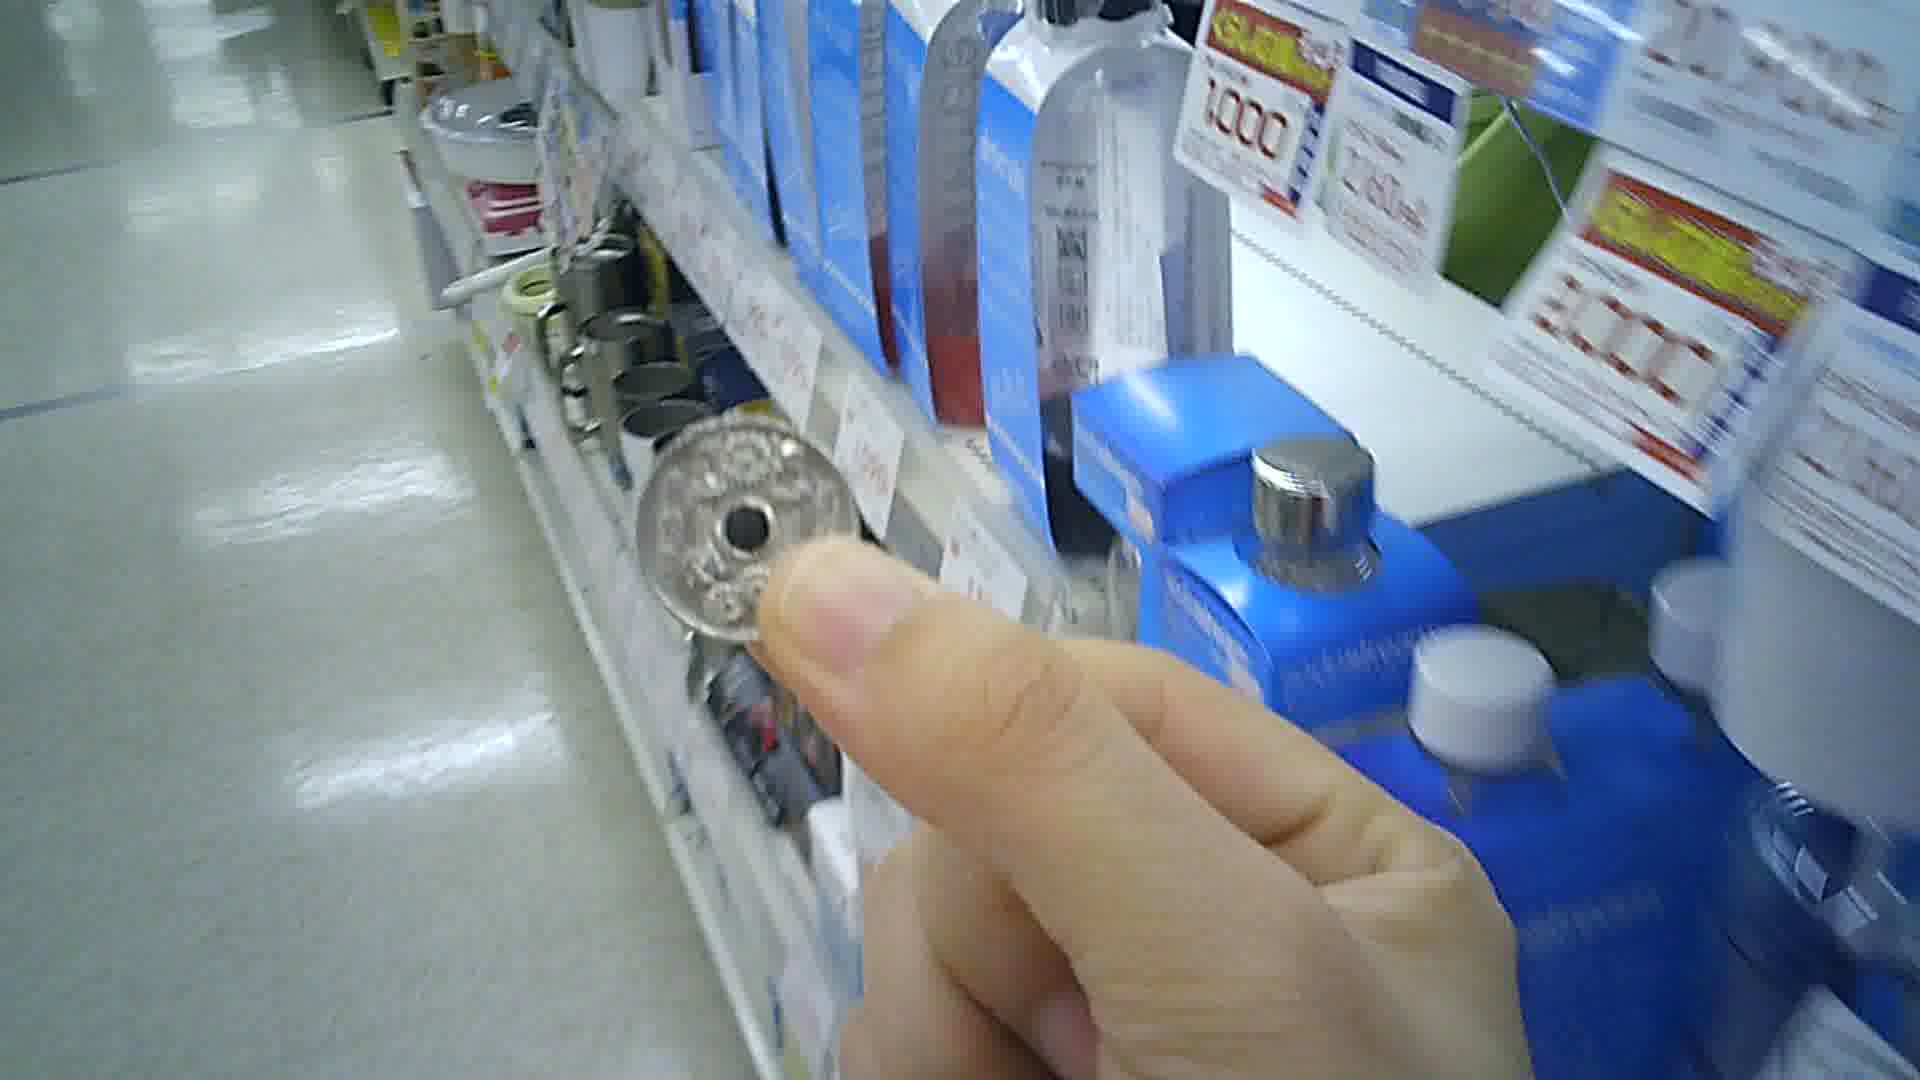50 Yen: (630, 410, 866, 647)
